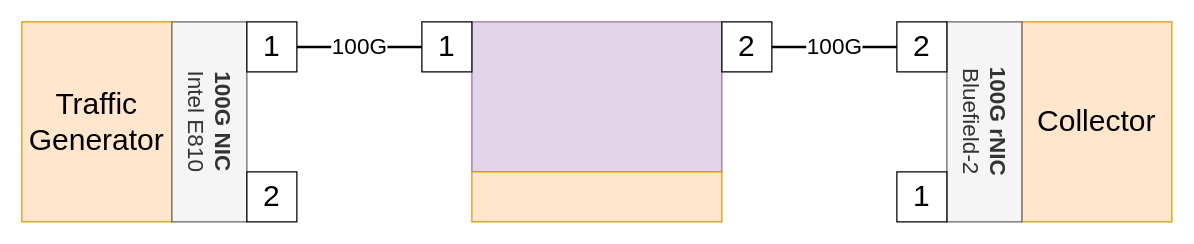
The diagram is 1194 pixels wide and 244 high, and some of its shapes have lost their labels. The shapes that lost their labels are listed below. From the top down, each one's centre as x and y in pixels, then its label:
At [596,96]: "Tofino Switch".
At [596,196]: "CPU".
